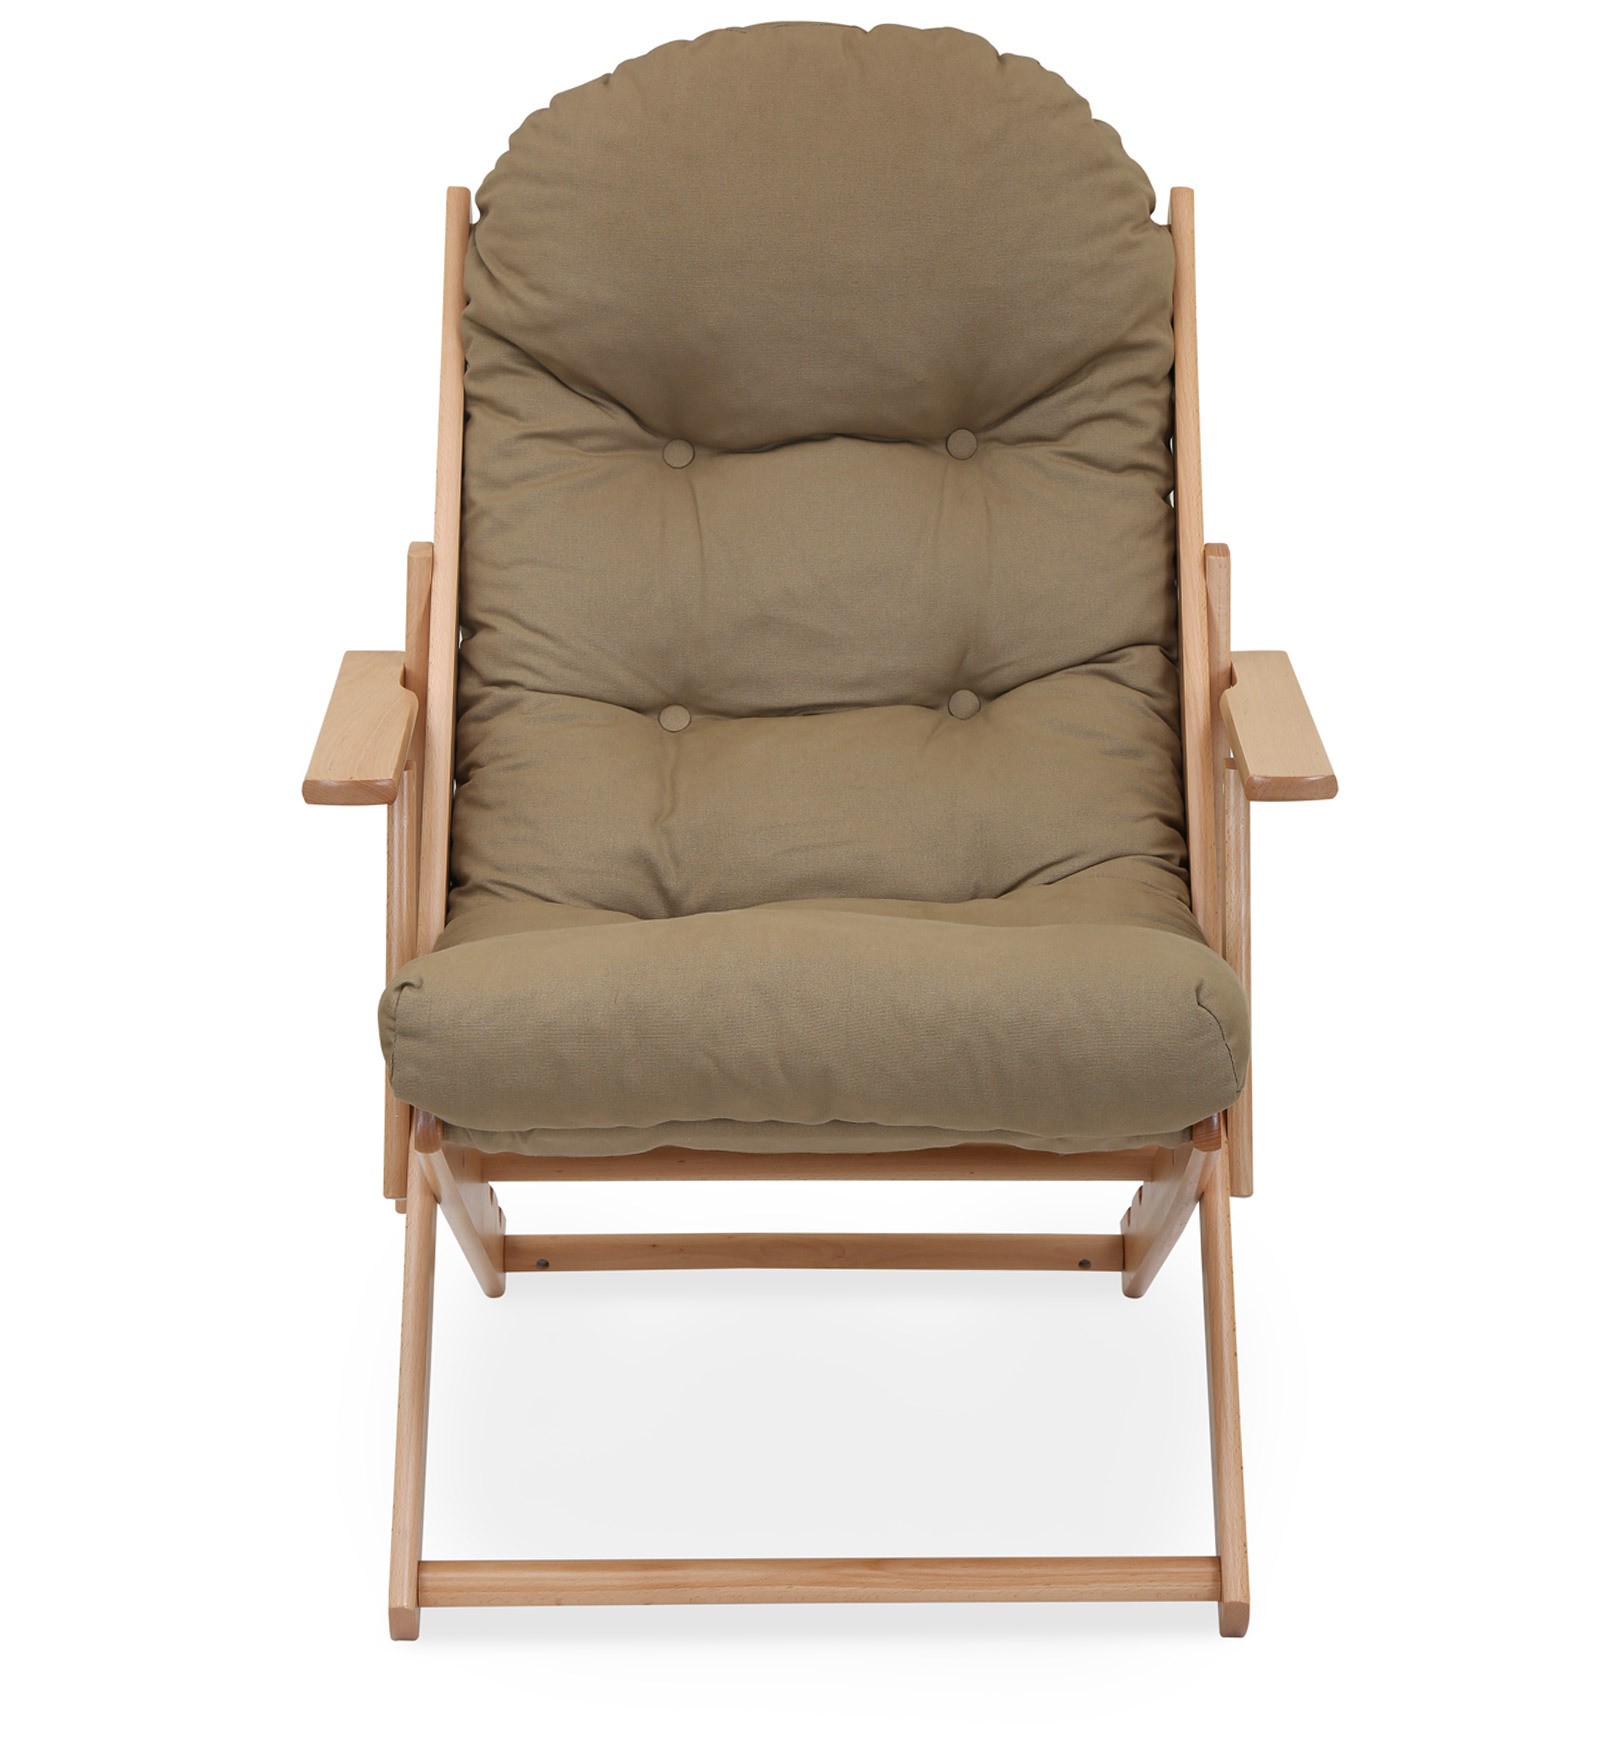Mazda Leisure Folding Chair in Light Brown Colour by @ Home: (261, 14, 1344, 1640)
